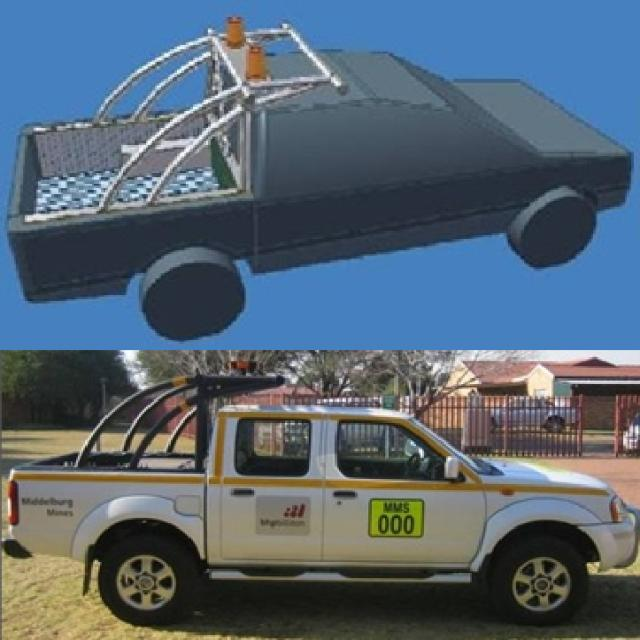light_vehicle: (9, 372, 639, 621)
